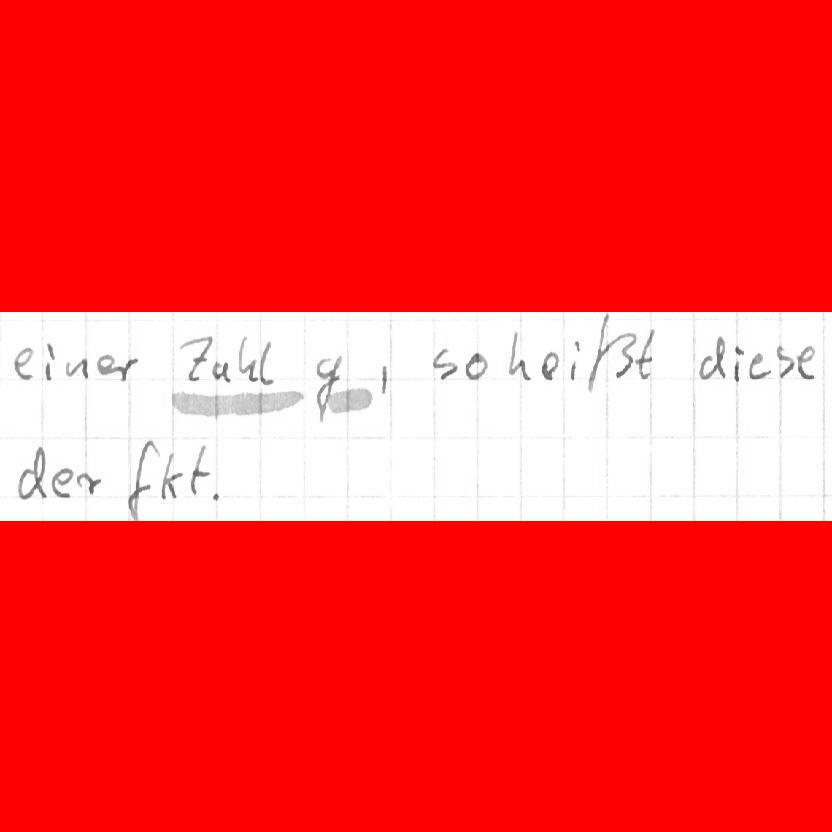Char: (586, 311, 639, 393), (123, 437, 159, 524), (310, 352, 342, 423), (16, 443, 50, 503), (177, 333, 213, 384), (696, 332, 727, 383), (504, 329, 534, 380), (633, 326, 660, 382), (158, 451, 184, 501), (188, 445, 209, 497), (432, 345, 461, 381), (11, 344, 38, 382), (464, 348, 495, 381), (256, 339, 277, 386), (238, 335, 258, 383), (794, 342, 818, 381), (747, 351, 773, 382), (75, 469, 103, 497), (775, 343, 796, 378), (64, 355, 91, 382), (567, 338, 583, 383), (731, 340, 747, 385), (52, 466, 73, 499), (115, 355, 141, 380), (43, 340, 57, 384), (94, 351, 118, 376), (541, 349, 559, 381), (376, 359, 390, 399), (212, 359, 235, 382), (208, 487, 223, 503)
